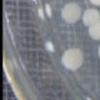white: (61, 48, 83, 72), (60, 3, 82, 25), (83, 9, 100, 28), (88, 20, 100, 42), (44, 40, 55, 54), (44, 2, 52, 19), (36, 7, 45, 22), (88, 0, 100, 9), (97, 44, 100, 60)
